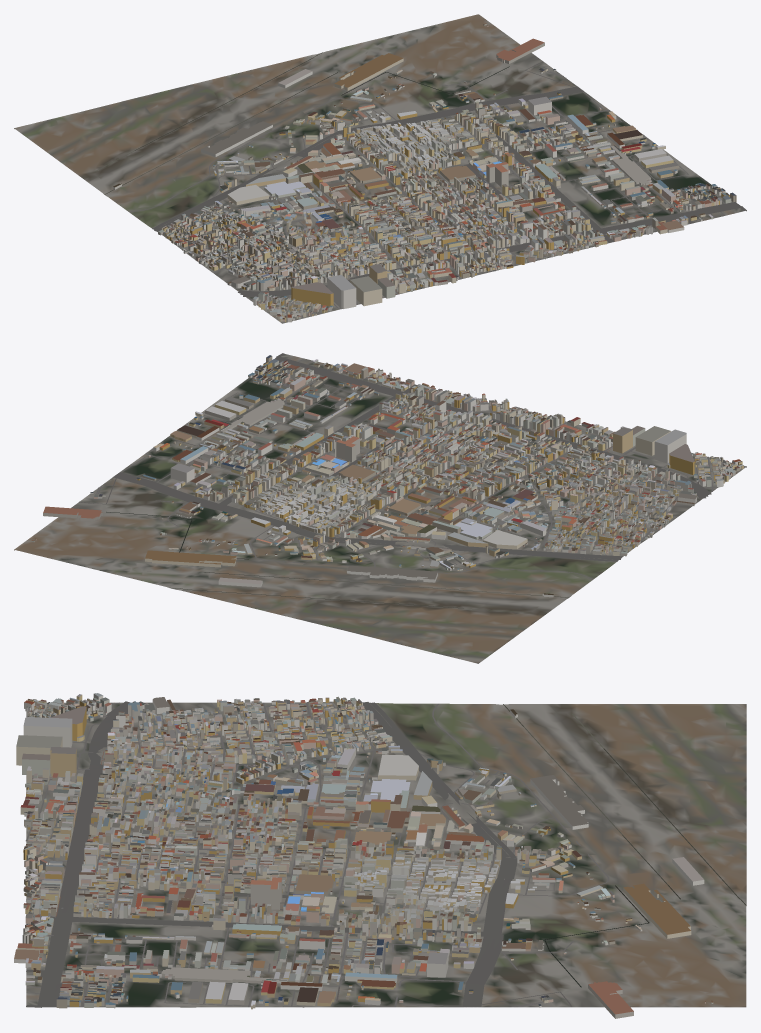
3 renders of one model, top to bottom at view 1: azimuth 30°, elevation 25°; view 2: azimuth 150°, elevation 25°; view 3: azimuth 270°, elevation 25°, orthographic. The views are drawn at different scales.
Parts seen in each view (by area): view 1: buildings, ground, roads, water; view 2: buildings, ground, roads, water; view 3: buildings, ground, roads, water.
Part boxes in pixels (x1=…): buildings: x1=113, y1=23, x2=736, y2=322; ground: x1=14, y1=14, x2=746, y2=323; roads: x1=129, y1=61, x2=746, y2=318; water: x1=94, y1=52, x2=509, y2=194; buildings: x1=31, y1=355, x2=743, y2=597; ground: x1=14, y1=354, x2=746, y2=663; roads: x1=79, y1=353, x2=731, y2=579; water: x1=106, y1=512, x2=568, y2=612; buildings: x1=14, y1=693, x2=713, y2=1018; ground: x1=26, y1=701, x2=746, y2=1007; roads: x1=25, y1=701, x2=609, y2=1007; water: x1=503, y1=704, x2=746, y2=987.
Bounding box in the file's own units: 1460 × 59.9 × 1425.
